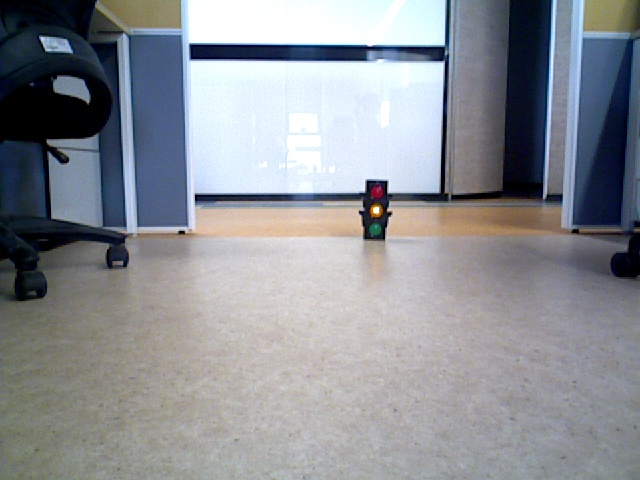yellow: (361, 181, 384, 238)
